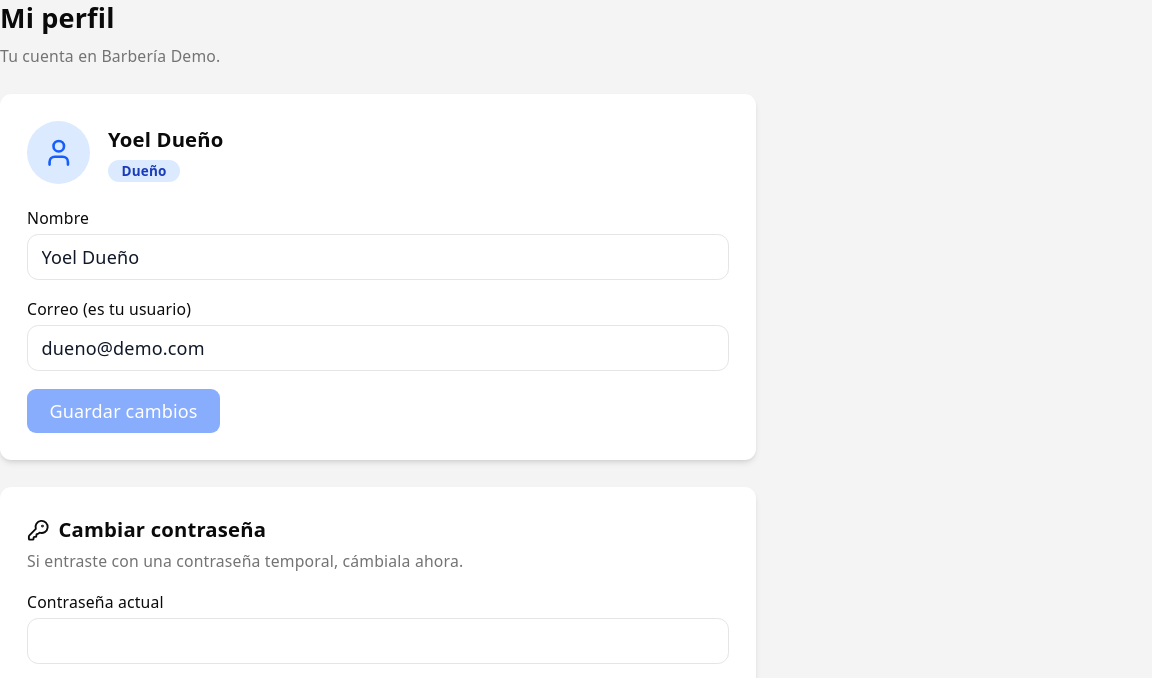
it: Mi perfil › si la contraseña actual es incorrecta muestra el motivo del servidor
The image size is (1152, 678).
Expected: the text "Yoel Dueño" is shown, [108,124,224,155]
Type "mala" into the password field labelled "Contraseña actual" at (378, 641), box [27,618,729,664]
(page scrolled)
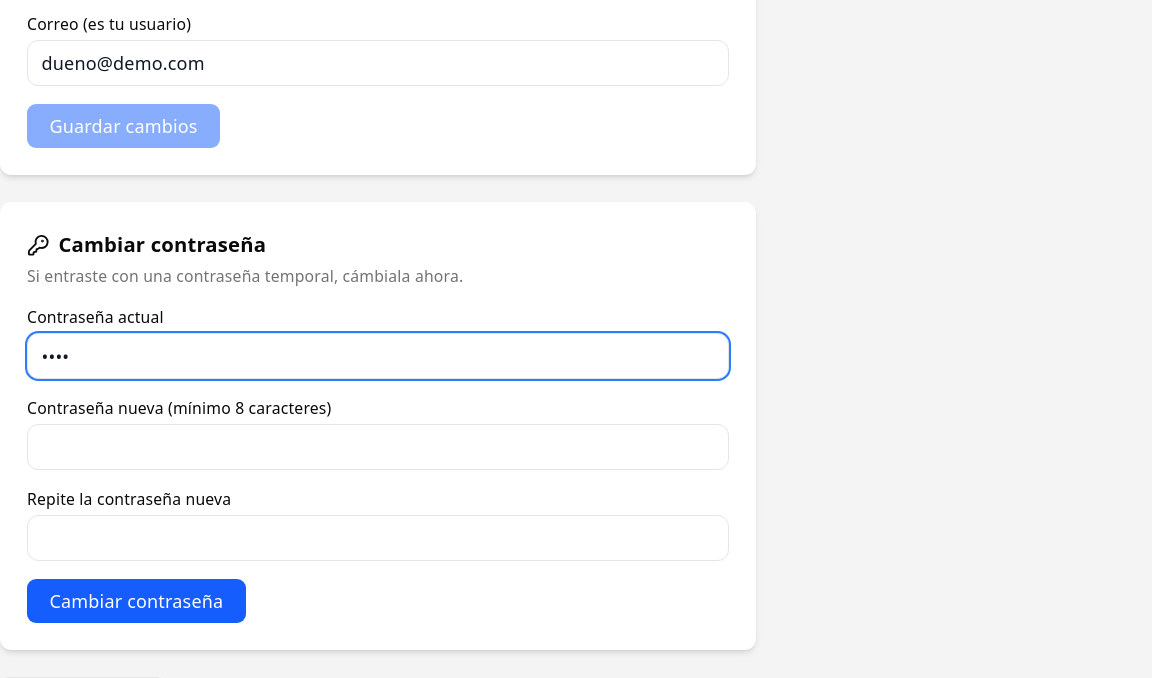
Type "NuevaClave456" into the password field labelled "Contraseña nueva (mínimo 8 caracteres)" at (378, 447), box [27,424,729,470]
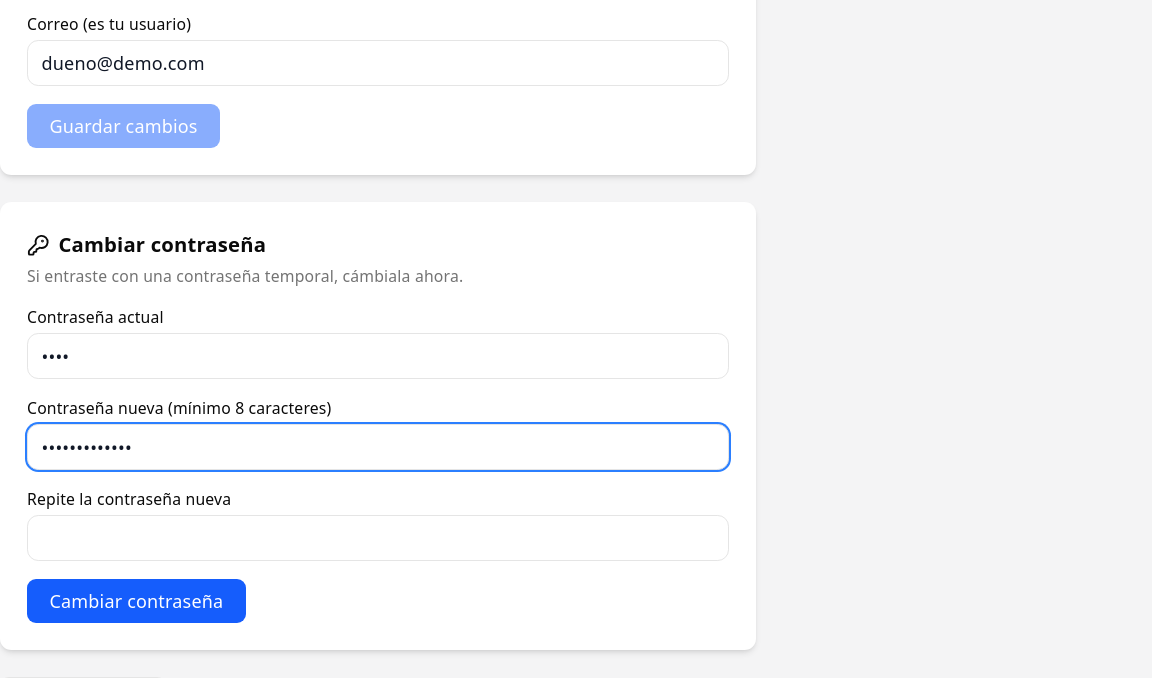
Type "NuevaClave456" into the password field labelled "Repite la contraseña nueva" at (378, 538), box [27,515,729,561]
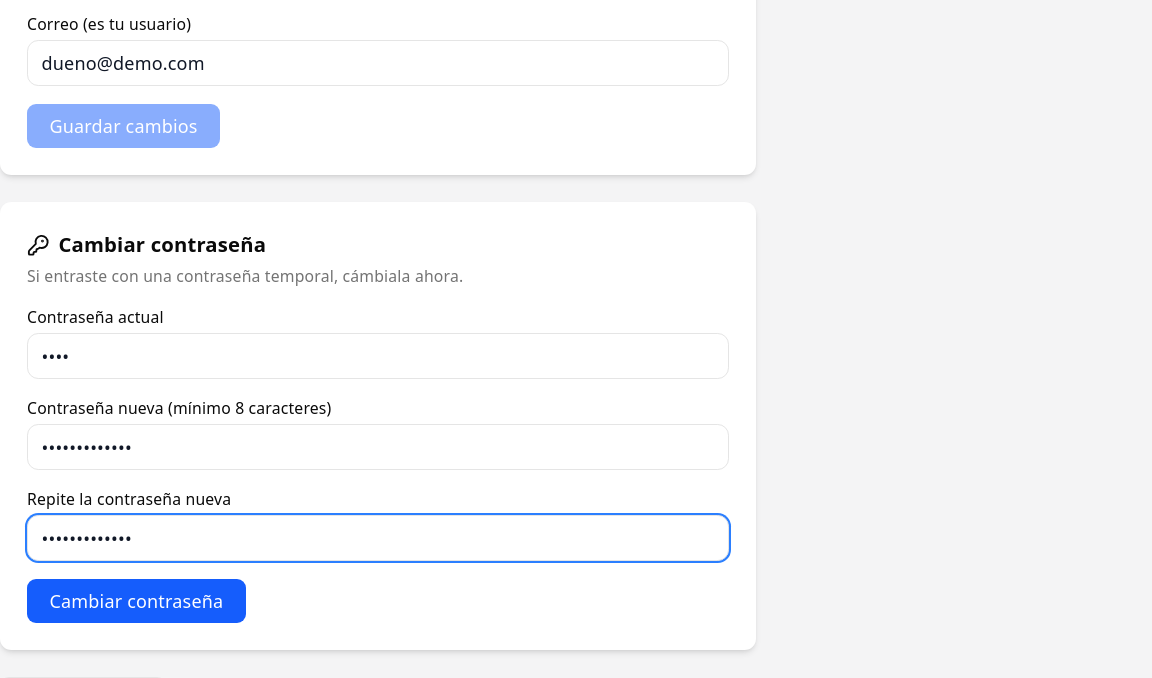
Click the button "Cambiar contraseña" at (136, 601), box [27,579,246,623]
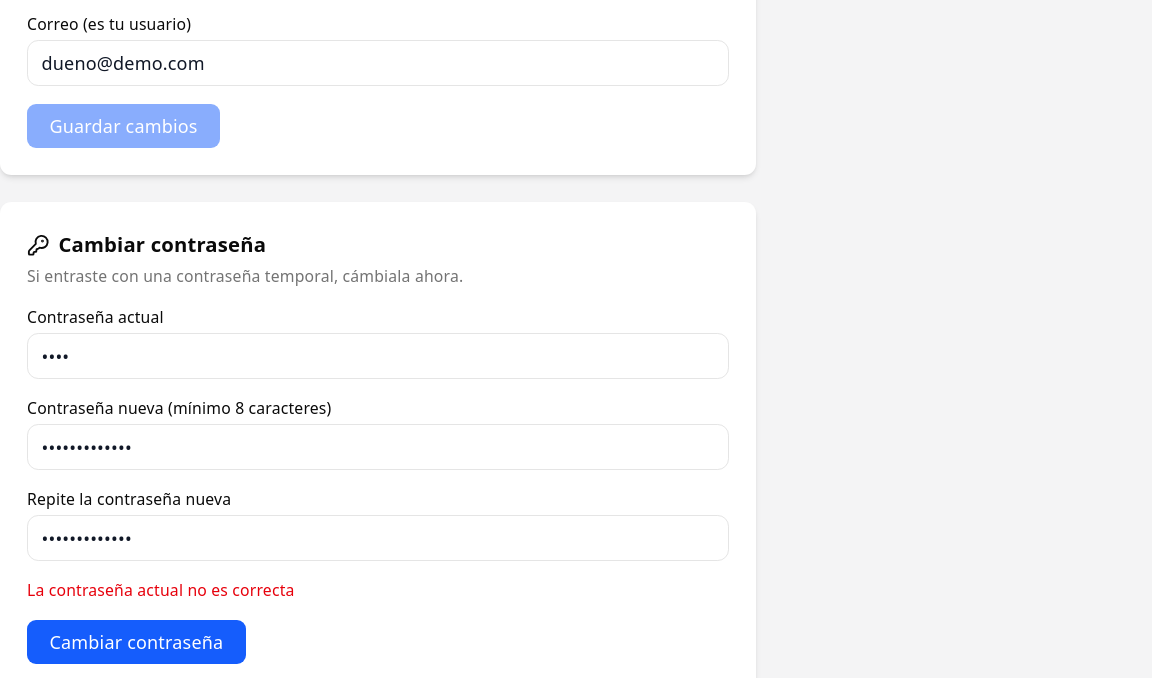
Now the message reads "La contraseña actual no es correcta", box [27,579,294,601]
